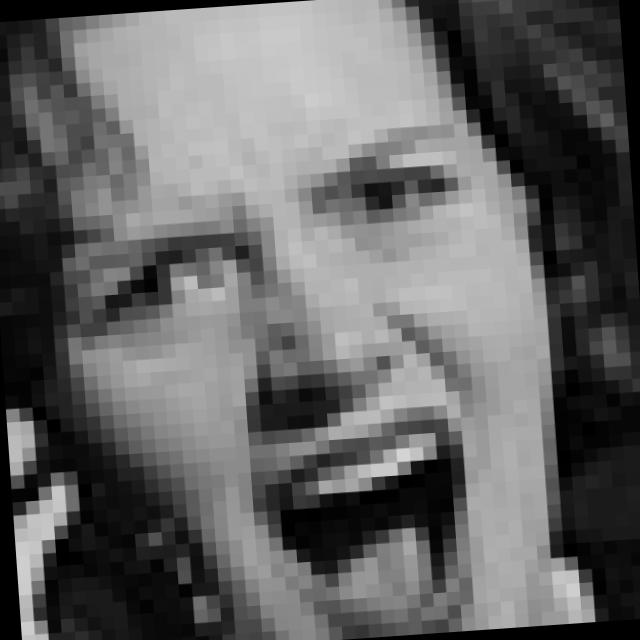angry: (70, 113, 503, 640)
